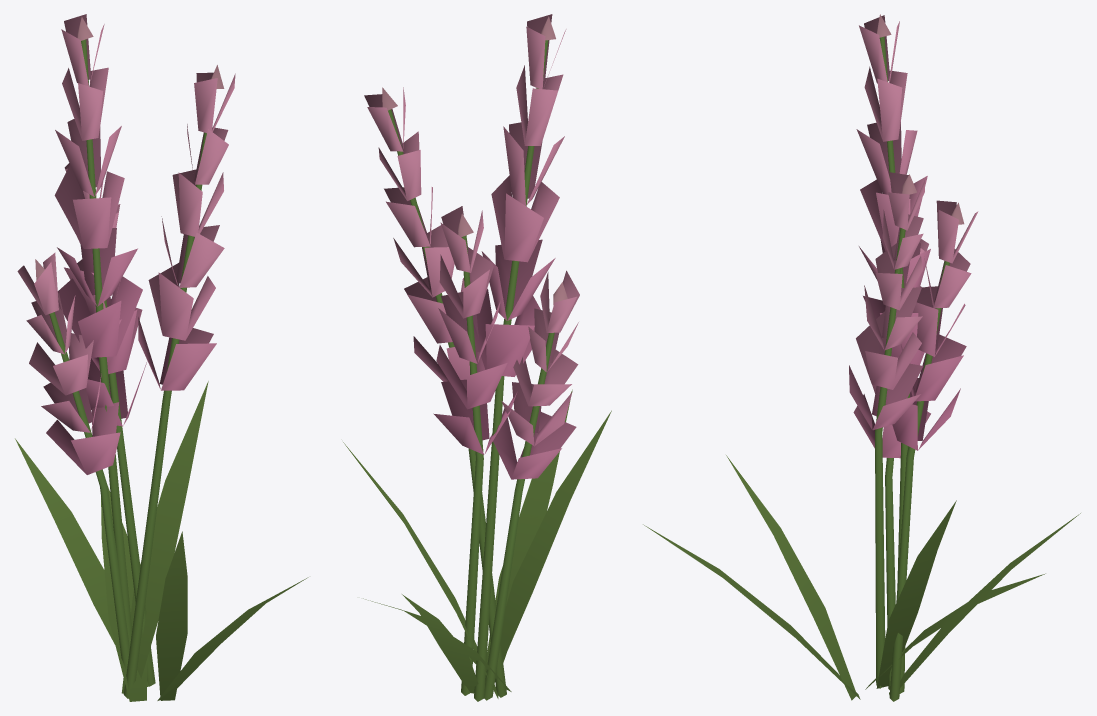
Rendered from flower_pink_A.glb.
The picture shows the model from 3 angles, left to right: view 1: azimuth 30°, elevation 25°; view 2: azimuth 150°, elevation 25°; view 3: azimuth 270°, elevation 25°; orthographic projection. The views are drawn at different scales.
Parts seen in each view (by area): view 1: flower_pink_A; view 2: flower_pink_A; view 3: flower_pink_A.
Boxes of the visible parts, bbox=[...] form: flower_pink_A: bbox=[15, 14, 308, 701]; flower_pink_A: bbox=[343, 14, 611, 701]; flower_pink_A: bbox=[643, 14, 1080, 701].
Size of the model in its own units: 0.1653 by 0.5059 by 0.3108.
